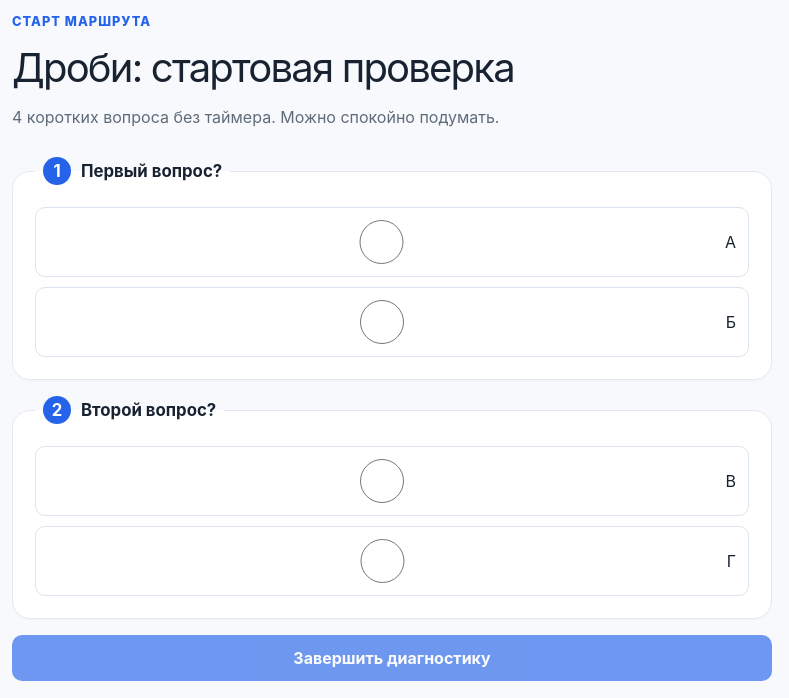
Scenario: DiagnosticPage › submits every answer and shows the recommended first lesson
Click the radio button labelled "А". click: click(382, 242)
box: [48,220,715,264]
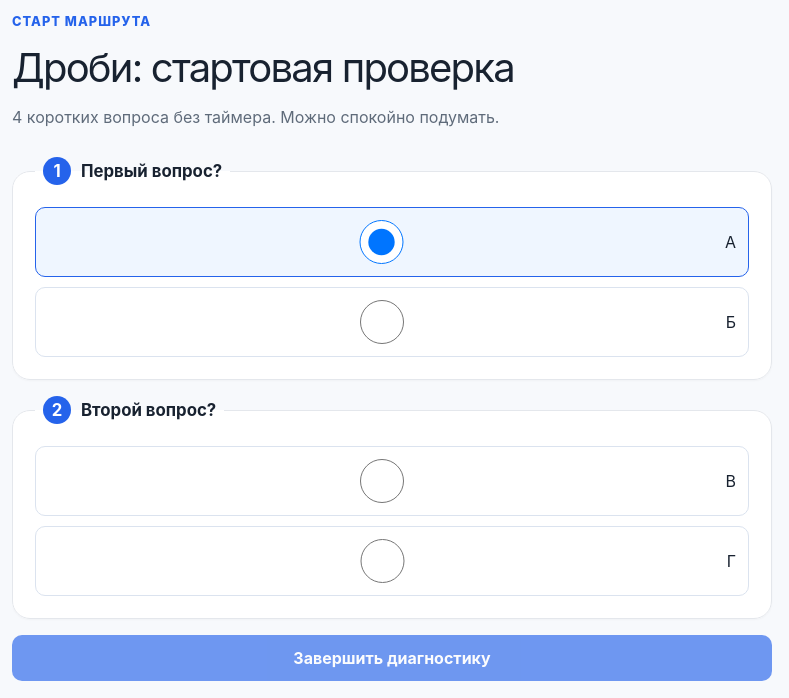
Click the radio button labelled "Г". click: click(382, 561)
box: [48,539,717,583]
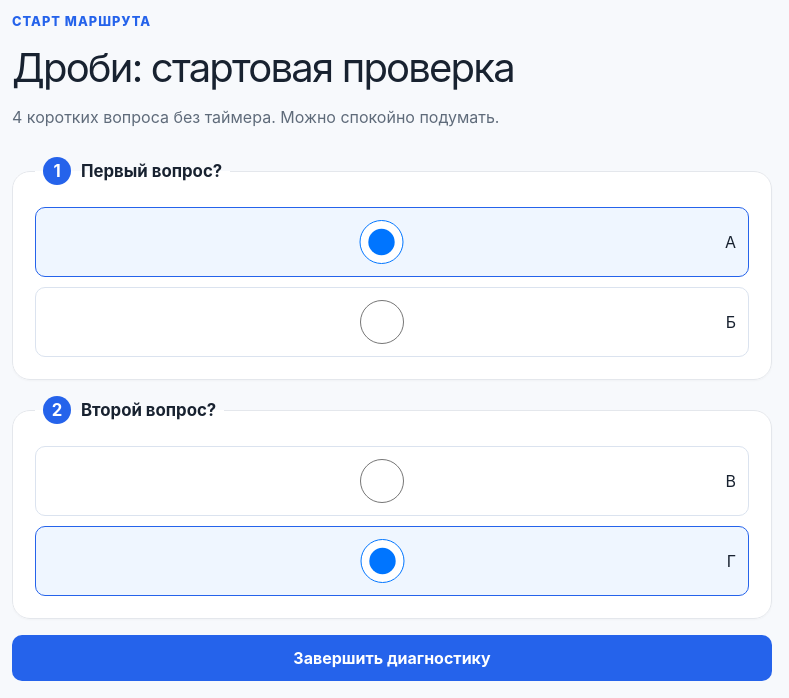
Click the button "Завершить диагностику". click: click(392, 658)
box: [12,635,772,681]
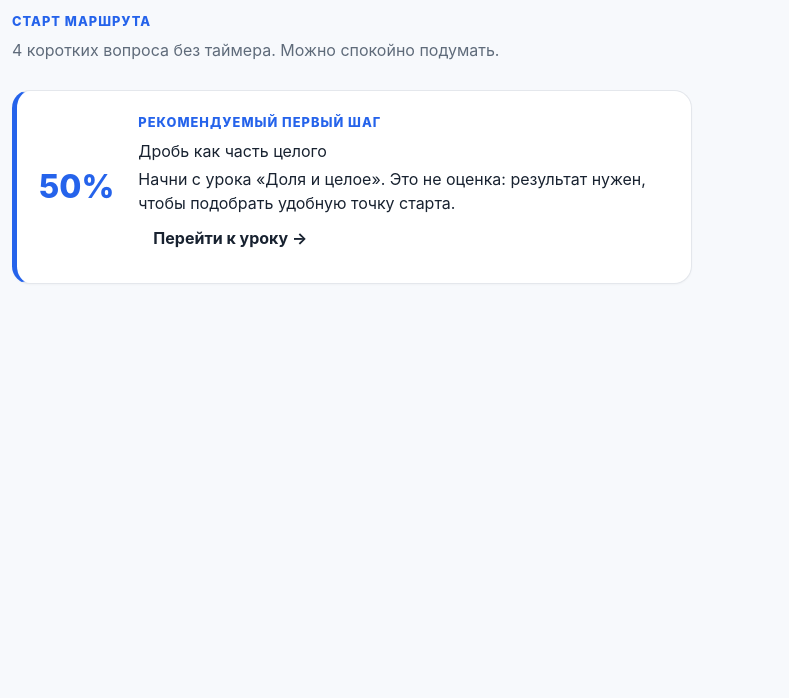
Expected: the text "50%" is shown, [39,163,114,211]
Expected: the heading "Дробь как часть целого" is shown, [138,141,327,161]
